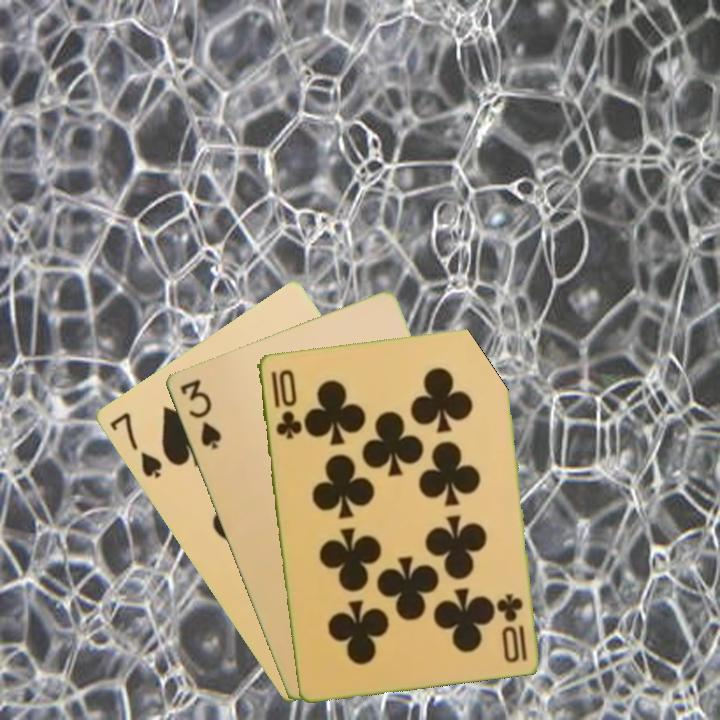10c: (267, 365, 303, 442), (496, 589, 529, 665)
3s: (175, 375, 224, 452)
7s: (105, 408, 165, 482)
